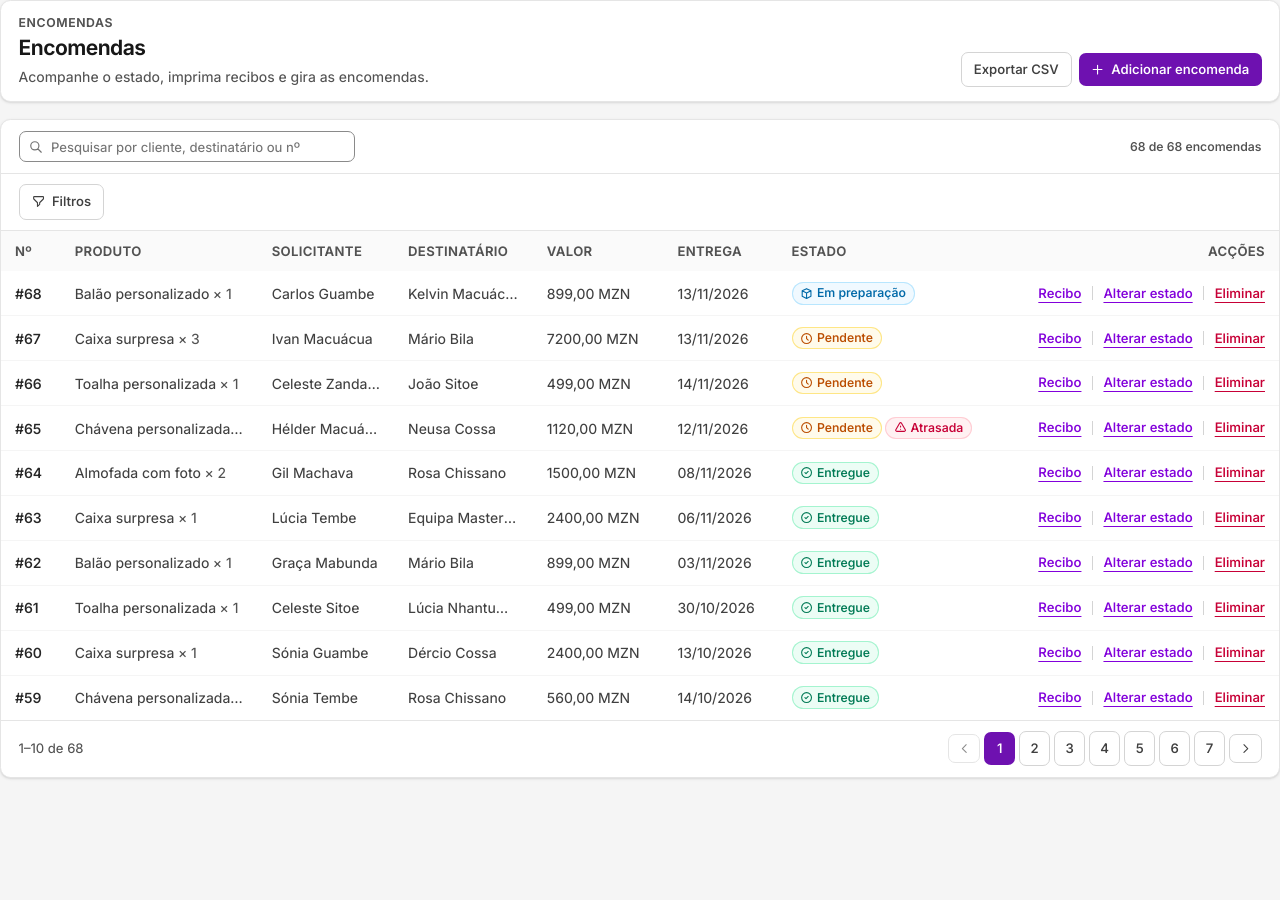
encomendas › filtra por estado e atualiza o estado de uma encomenda
Expected: the text "#68" is shown, left=1, top=271, right=61, bottom=316
Click the button "Filtros".
click(61, 202)  # box left=18, top=184, right=104, bottom=220
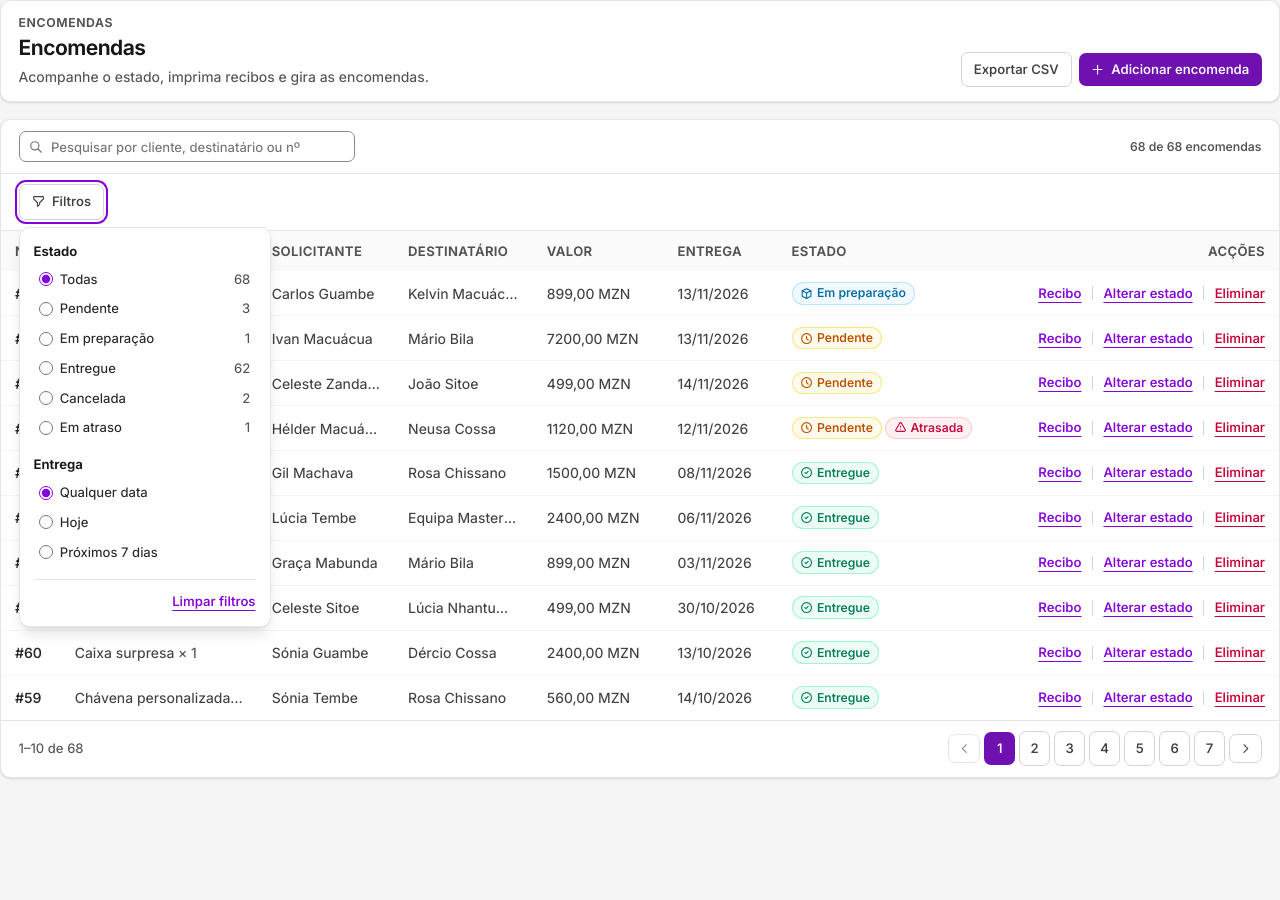
Click the radio button labelled "Em atraso 1".
click(46, 428)  # box left=39, top=421, right=53, bottom=435
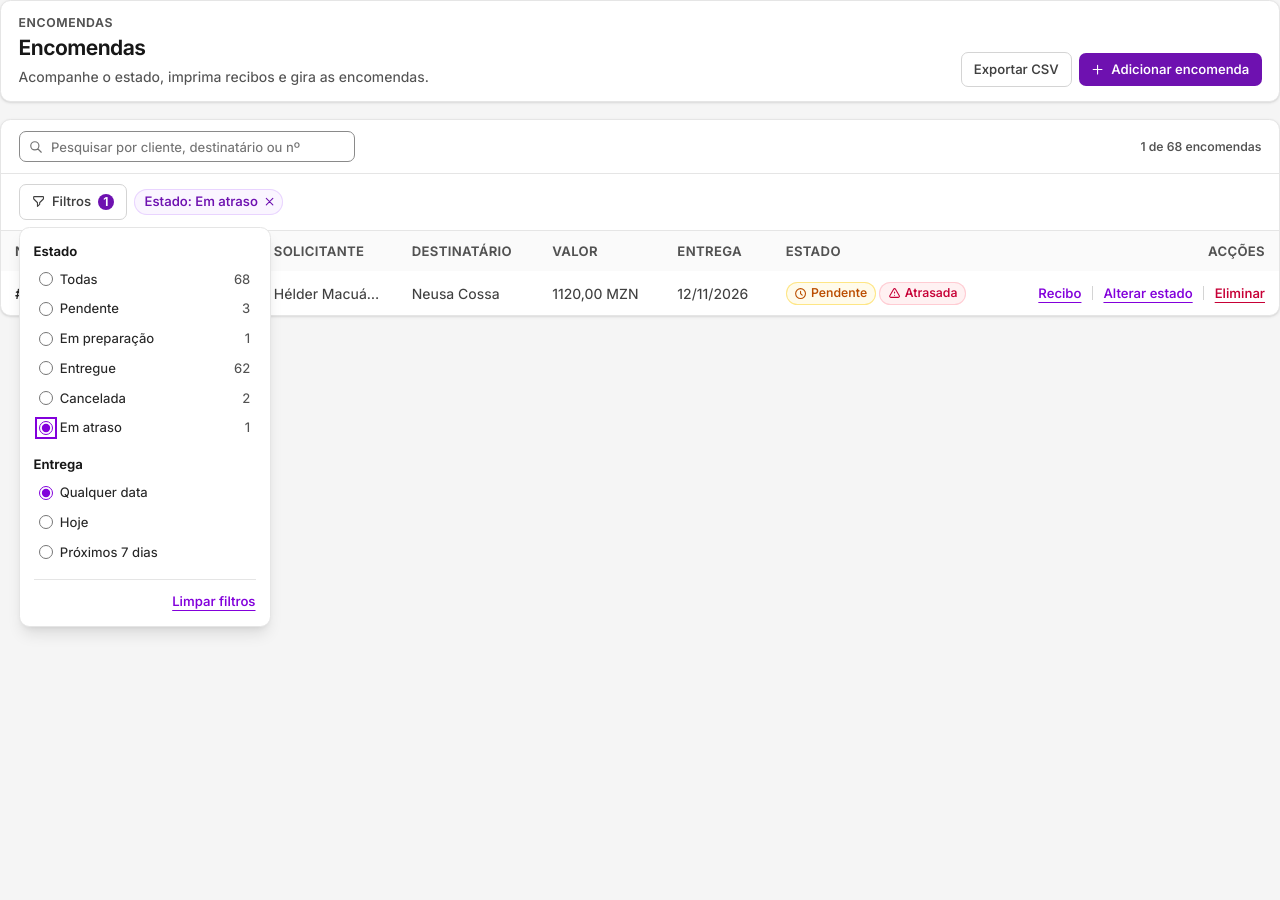
Expected: the number of rows is 2, left=1, top=231, right=1279, bottom=271; left=1, top=271, right=1279, bottom=315
Click the button named "Remover filtro Estado".
click(270, 202)  # box left=261, top=194, right=278, bottom=210
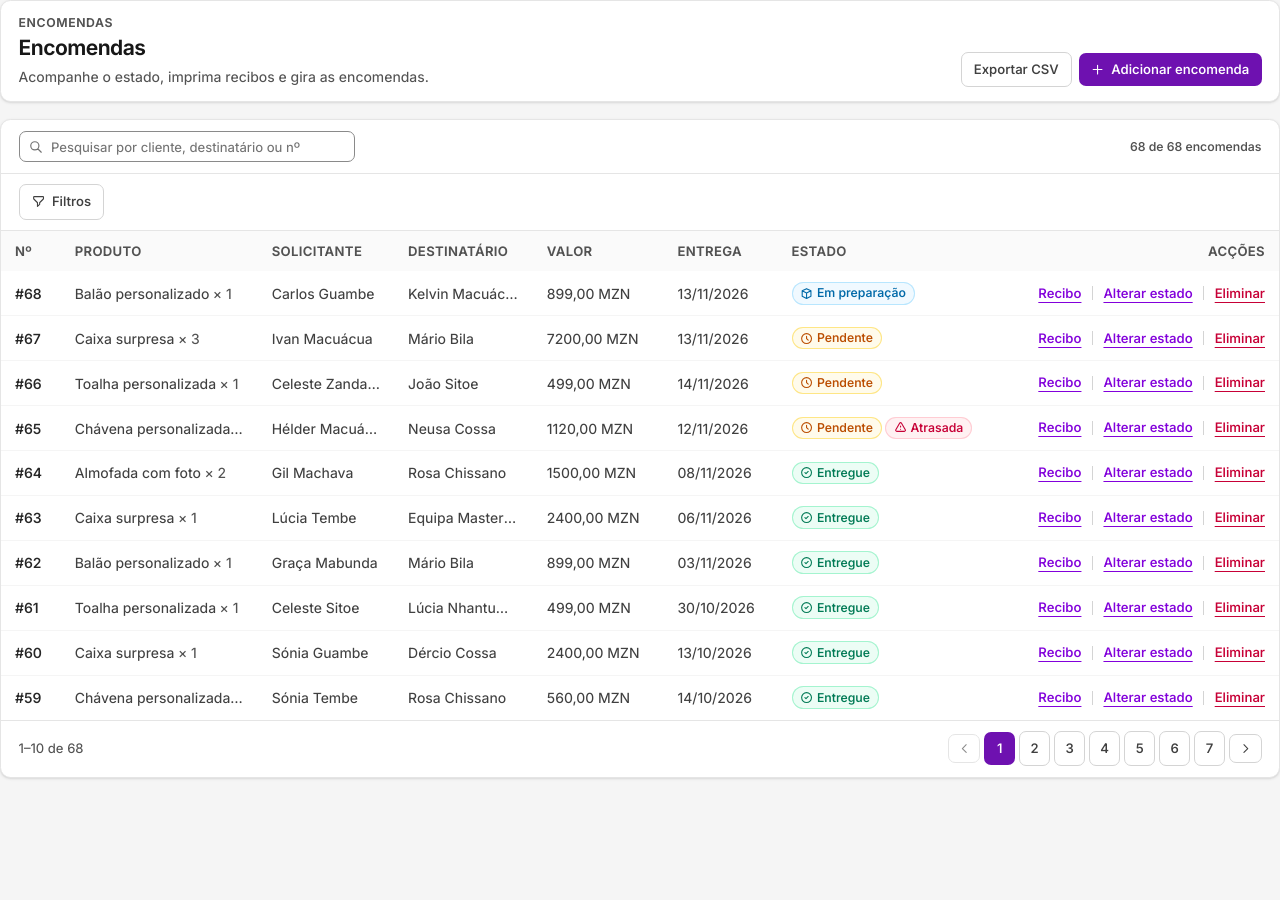
Click the button "Alterar estado" in the row of "Carlos Guambe".
click(1148, 293)  # box left=1104, top=283, right=1193, bottom=304
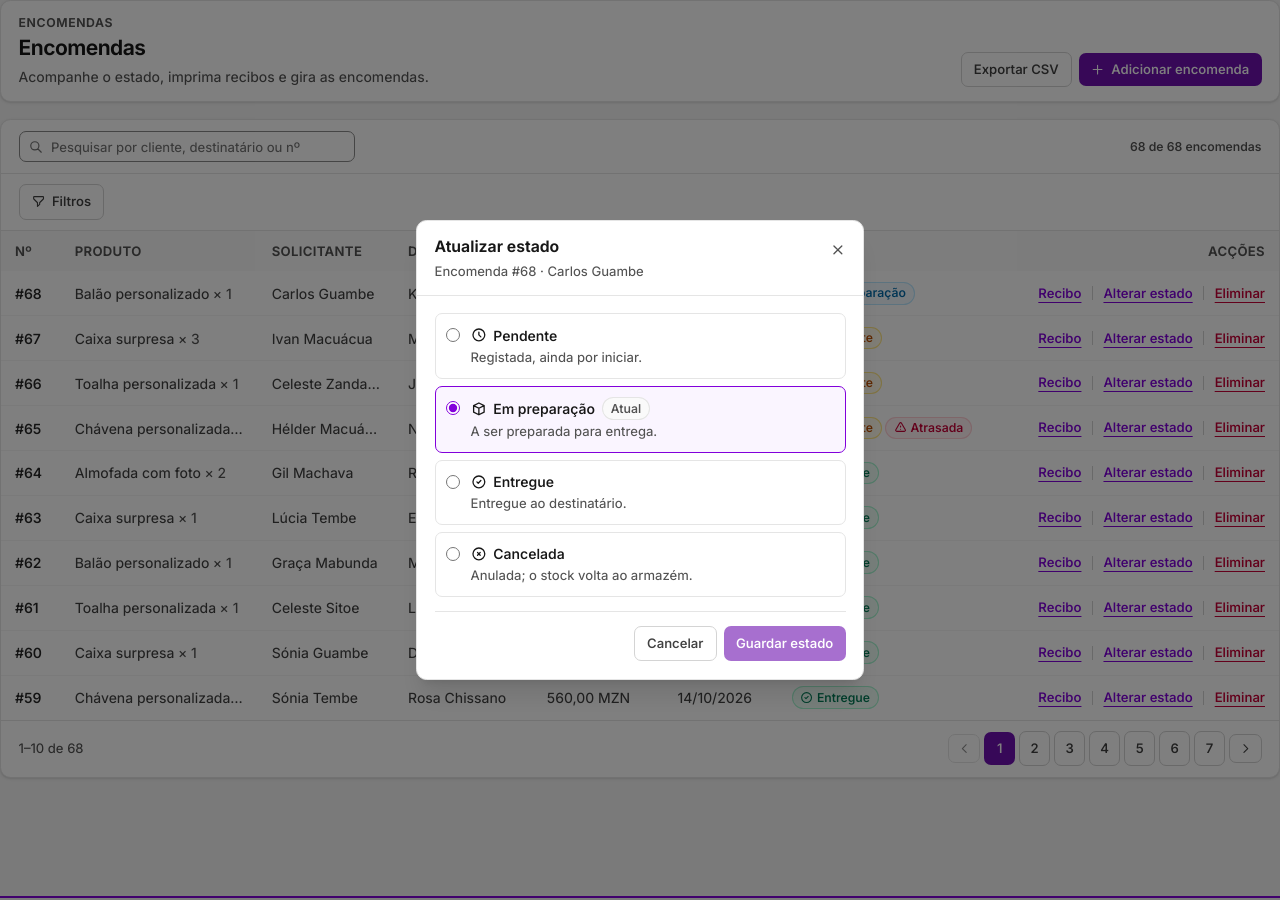
Click the radio button labelled "Entregue Entregue ao destinatário.".
click(453, 482)  # box left=446, top=474, right=460, bottom=488
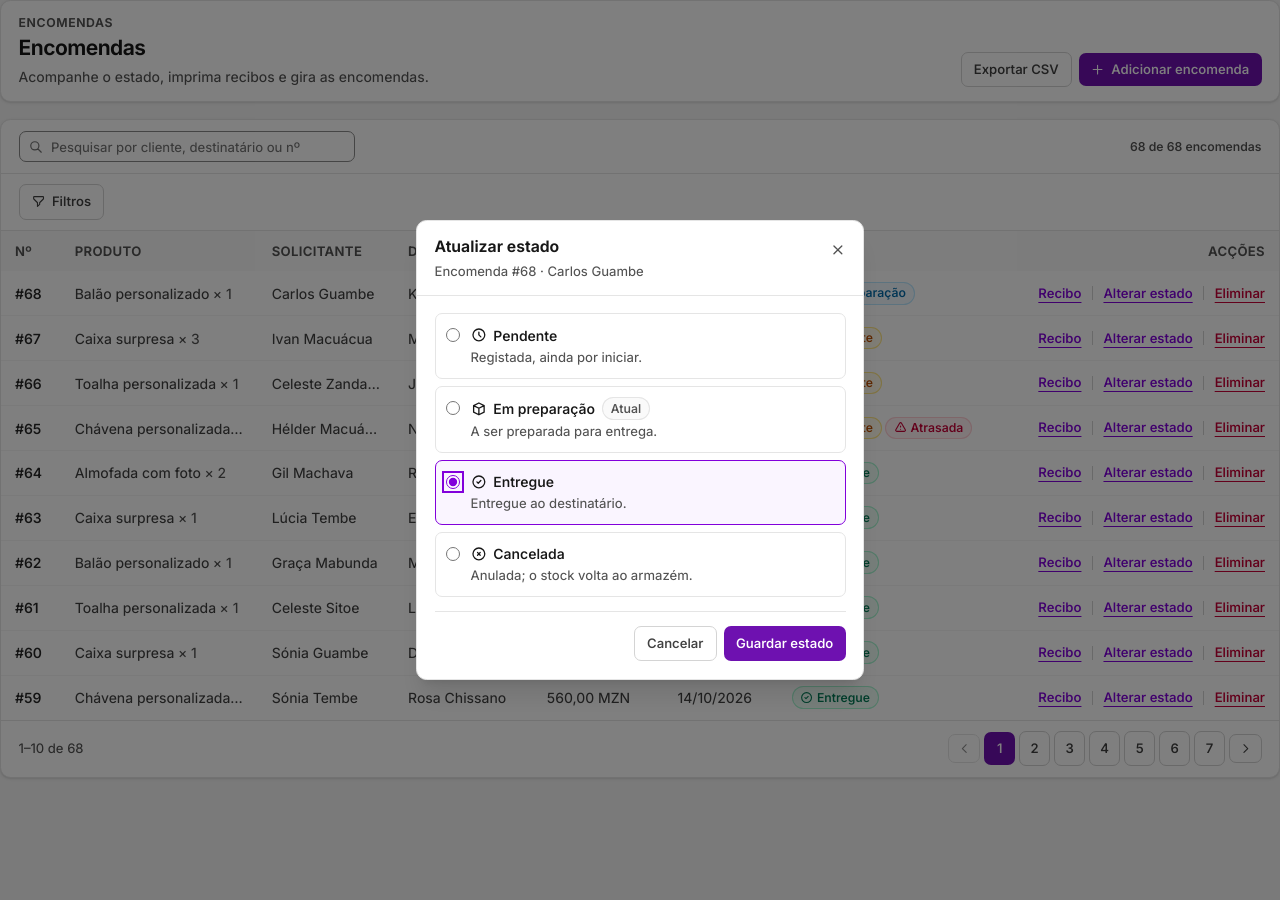
Click the button "Guardar estado".
click(785, 644)  # box left=724, top=626, right=846, bottom=661
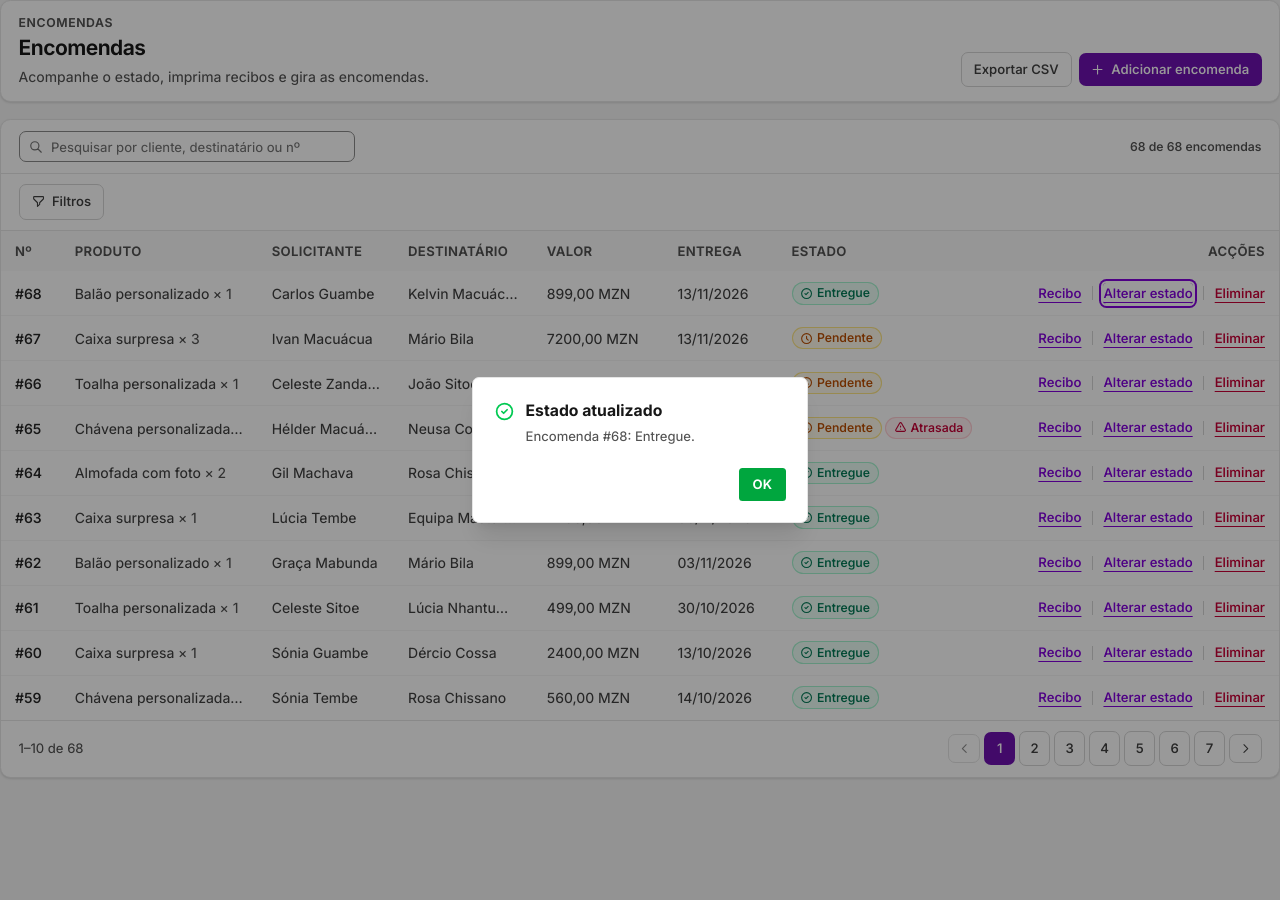
Result: the heading "Estado atualizado" is shown at left=526, top=401, right=662, bottom=420
